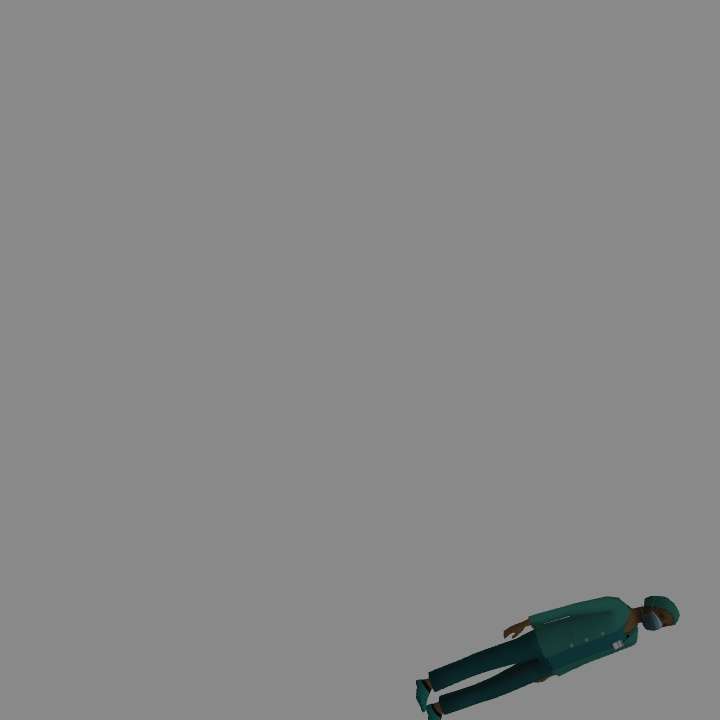victim: (424, 598, 675, 714)
